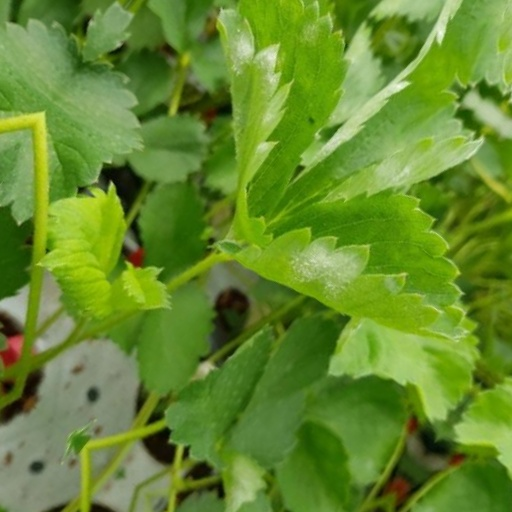Powdery Mildew Leaf: (75, 14, 259, 263), (217, 109, 473, 275), (238, 0, 368, 232)
